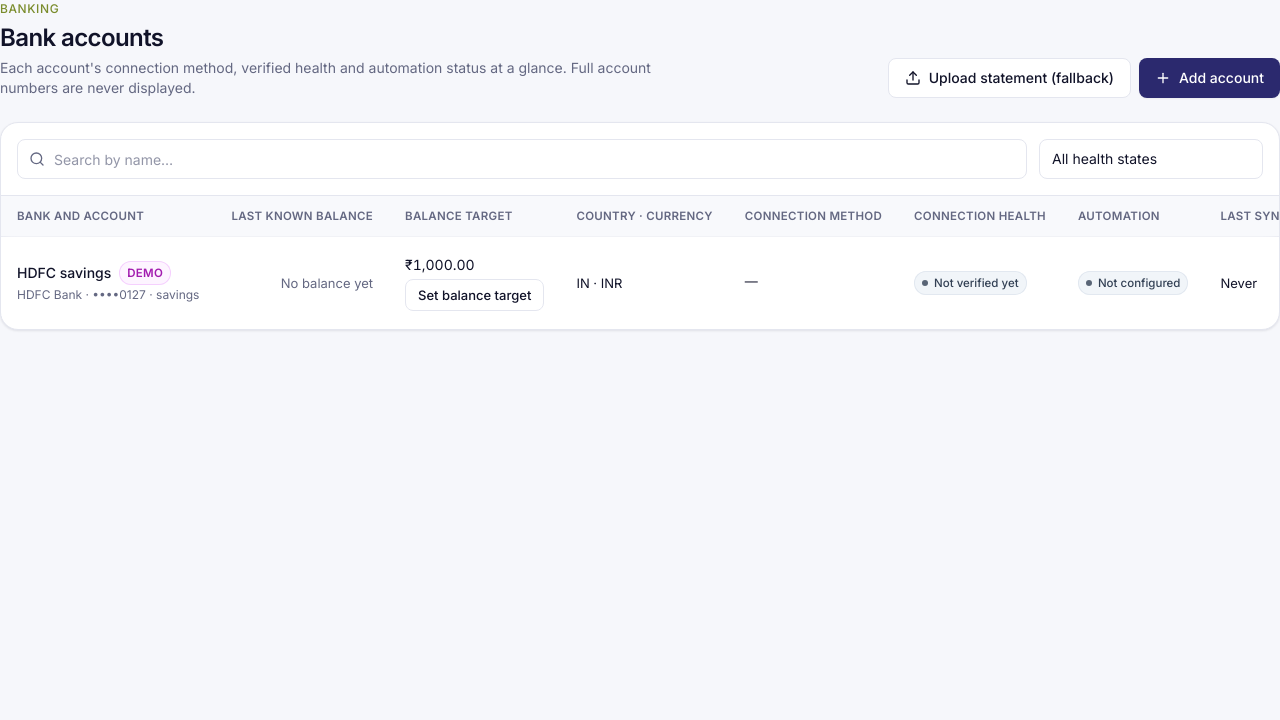
Test: Account monitoring › opens the target form directly from the accounts list
Click the button "Set balance target": (475, 295) [405,279,544,311]
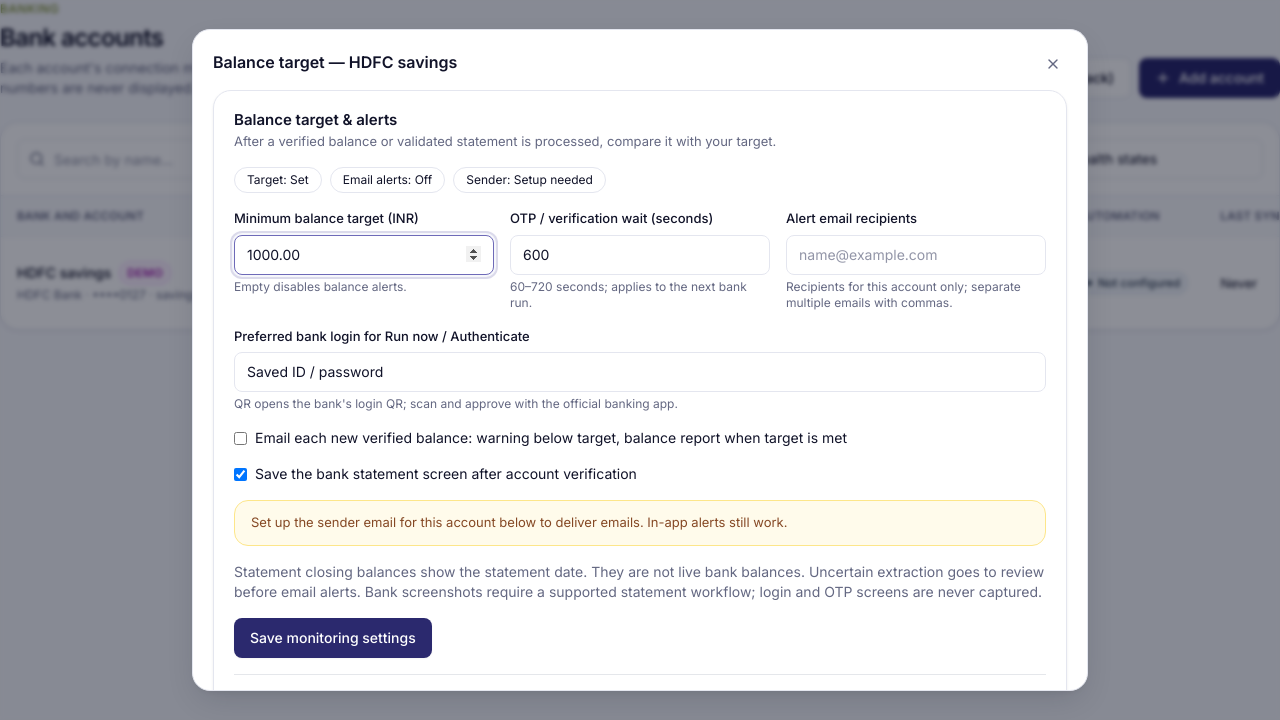
Check: the dialog is shown
Check: the number field labelled "Minimum balance target (INR)" holds "1000", box [234,234,494,274]
Check: the button "Save monitoring settings" is shown, box [234,618,432,658]
